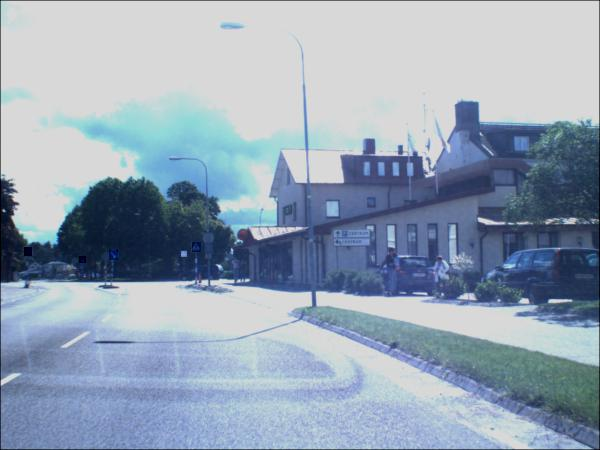PASS_RIGHT_SIDE: (110, 251, 120, 262), (80, 257, 88, 265)
PEDESTRIAN_CROSSING: (193, 243, 203, 254), (25, 248, 34, 258), (182, 252, 189, 259)
